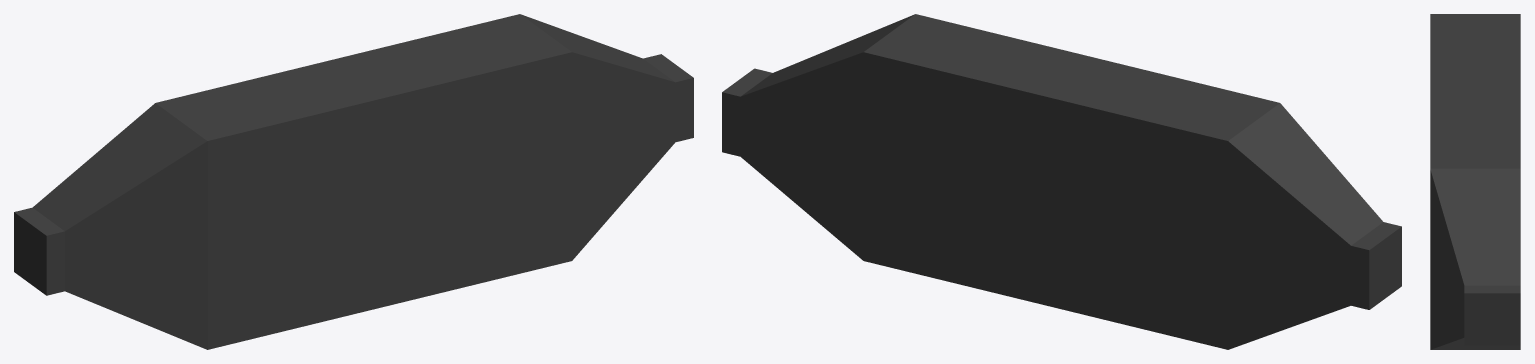
File: PackBody.glb
3 renders of one model, left to right at view 1: azimuth 30°, elevation 25°; view 2: azimuth 150°, elevation 25°; view 3: azimuth 270°, elevation 25°, orthographic. The views are drawn at different scales.
Visible parts, largest first — view 1: PackBody; view 2: PackBody; view 3: PackBody.
Part boxes in pixels (bbox=[...]): PackBody: bbox=[14, 14, 693, 349]; PackBody: bbox=[722, 14, 1401, 349]; PackBody: bbox=[1430, 14, 1520, 349].
Size of the model in its own units: 0.6999 by 0.2158 by 0.0976.
Materials: 1 (1 with a texture image).
